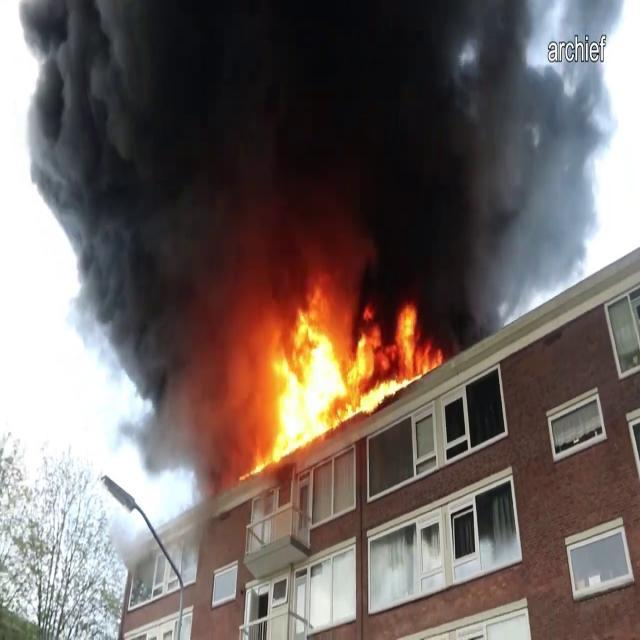Fire: (239, 278, 437, 470)
Smoke: (8, 1, 629, 367)
